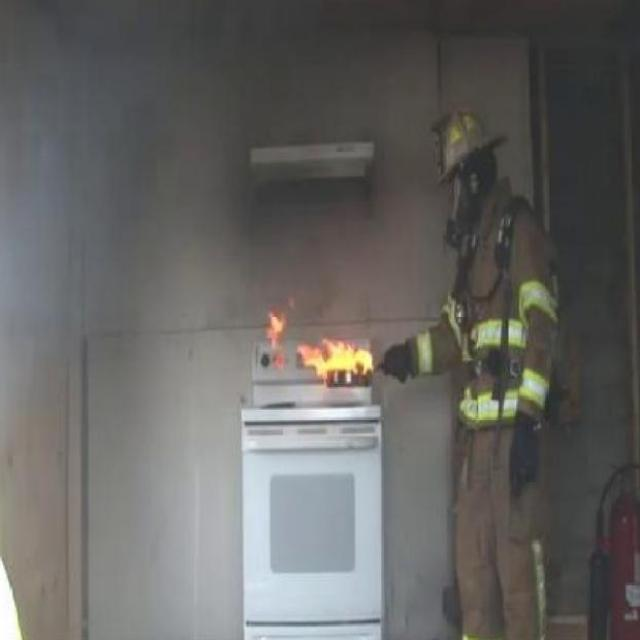smoke: (296, 337, 373, 376), (265, 306, 287, 348)
